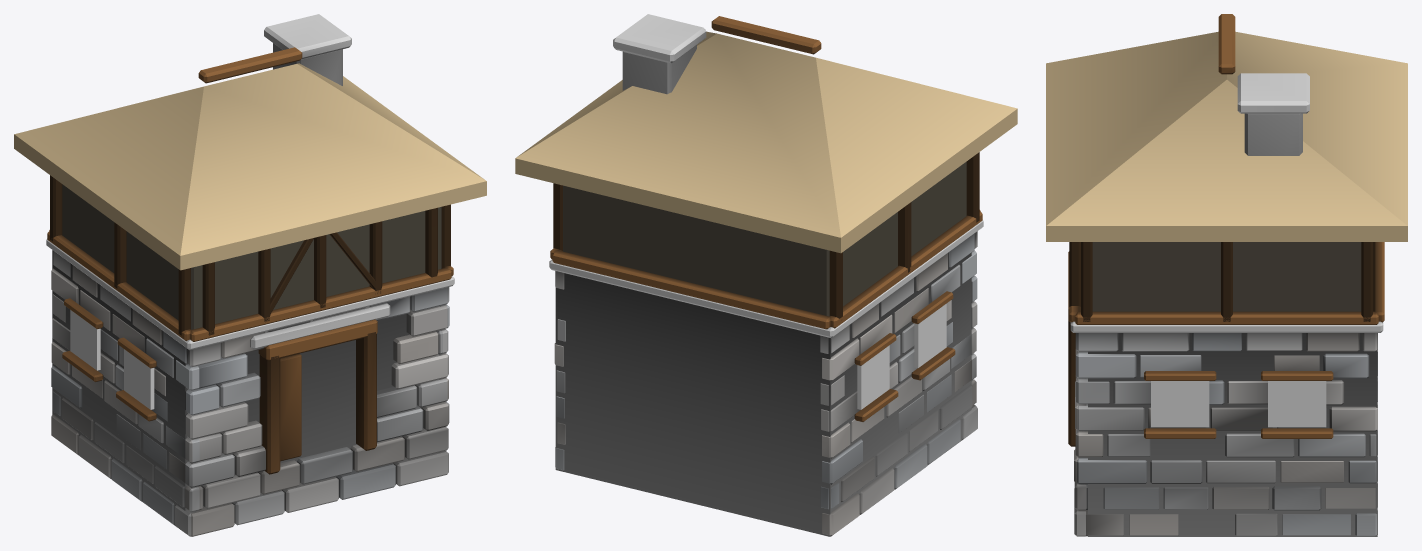
File: HeroMillHouse.fbx
3 views of the same model, side by side, from view 1: azimuth 30°, elevation 25°; view 2: azimuth 150°, elevation 25°; view 3: azimuth 270°, elevation 25° (orthographic). The views are drawn at different scales.
Parts seen in each view (by area): view 1: HeroMillHouse__Limestone, HeroMillHouse__Thatch, HeroMillHouse__Wood, HeroMillHouse__Paint; view 2: HeroMillHouse__Limestone, HeroMillHouse__Thatch, HeroMillHouse__Wood, HeroMillHouse__Paint; view 3: HeroMillHouse__Limestone, HeroMillHouse__Thatch, HeroMillHouse__Wood, HeroMillHouse__Paint.
Boxes of the visible parts, x1,y1,x2,y2 form: HeroMillHouse__Limestone: [46, 14, 454, 536]; HeroMillHouse__Thatch: [14, 63, 486, 270]; HeroMillHouse__Wood: [47, 47, 453, 474]; HeroMillHouse__Paint: [70, 310, 154, 409]; HeroMillHouse__Limestone: [549, 14, 983, 536]; HeroMillHouse__Thatch: [515, 31, 1017, 253]; HeroMillHouse__Wood: [550, 16, 982, 421]; HeroMillHouse__Paint: [857, 303, 946, 409]; HeroMillHouse__Limestone: [1070, 73, 1383, 536]; HeroMillHouse__Thatch: [1046, 31, 1407, 241]; HeroMillHouse__Wood: [1068, 14, 1384, 446]; HeroMillHouse__Paint: [1151, 381, 1326, 427].
Size of the model in its own units: 3.3 by 4.06 by 3.1.
